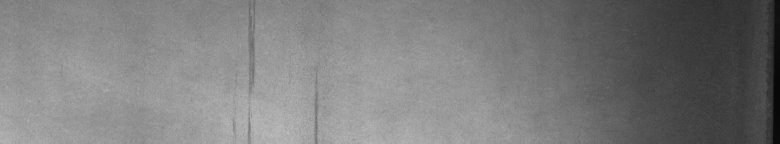ka: (233, 4, 321, 136)
